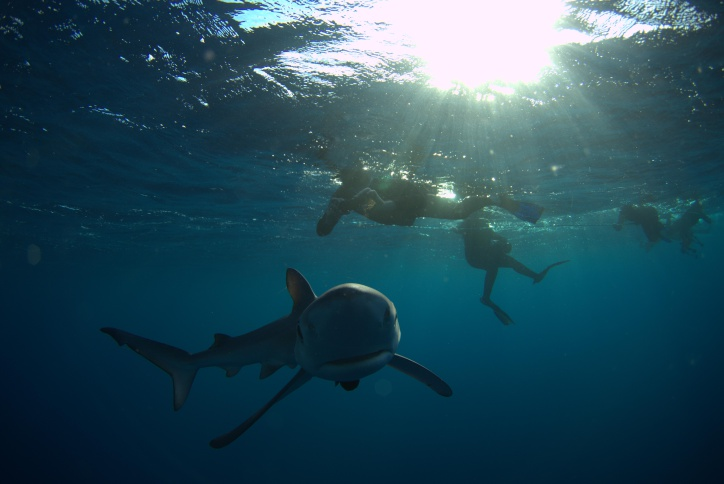Azul: (95, 260, 460, 467)
